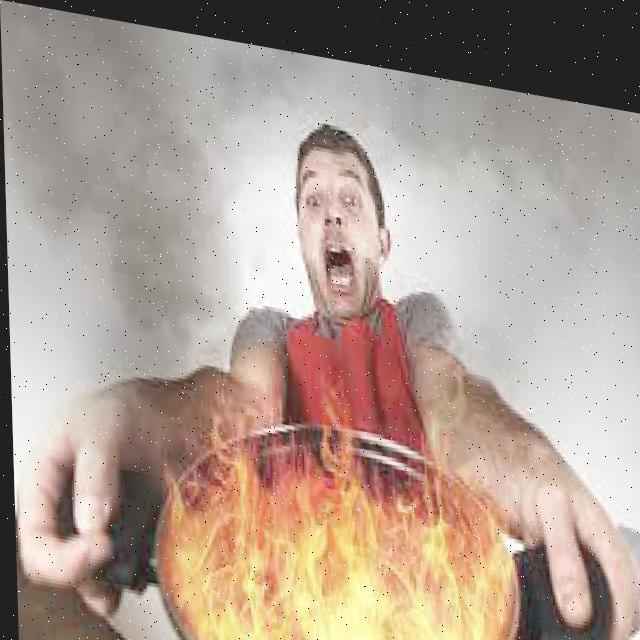Fire: (159, 372, 516, 639)
